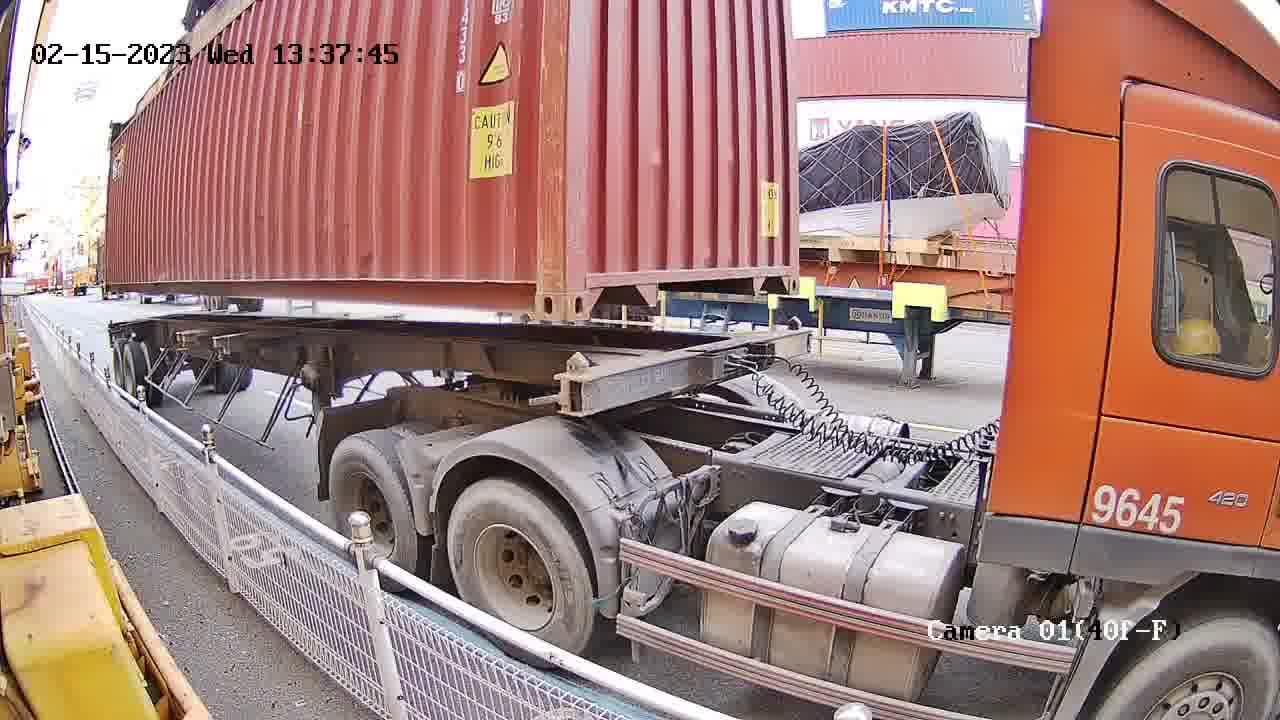Chassis: (580, 327, 814, 414)
Cone: (552, 350, 596, 412), (783, 318, 805, 342)
Hole_L: (564, 257, 618, 323)
Hole_R: (505, 260, 567, 321), (762, 237, 800, 296)
Tire: (447, 482, 592, 652), (1092, 619, 1279, 715), (327, 436, 417, 575)
